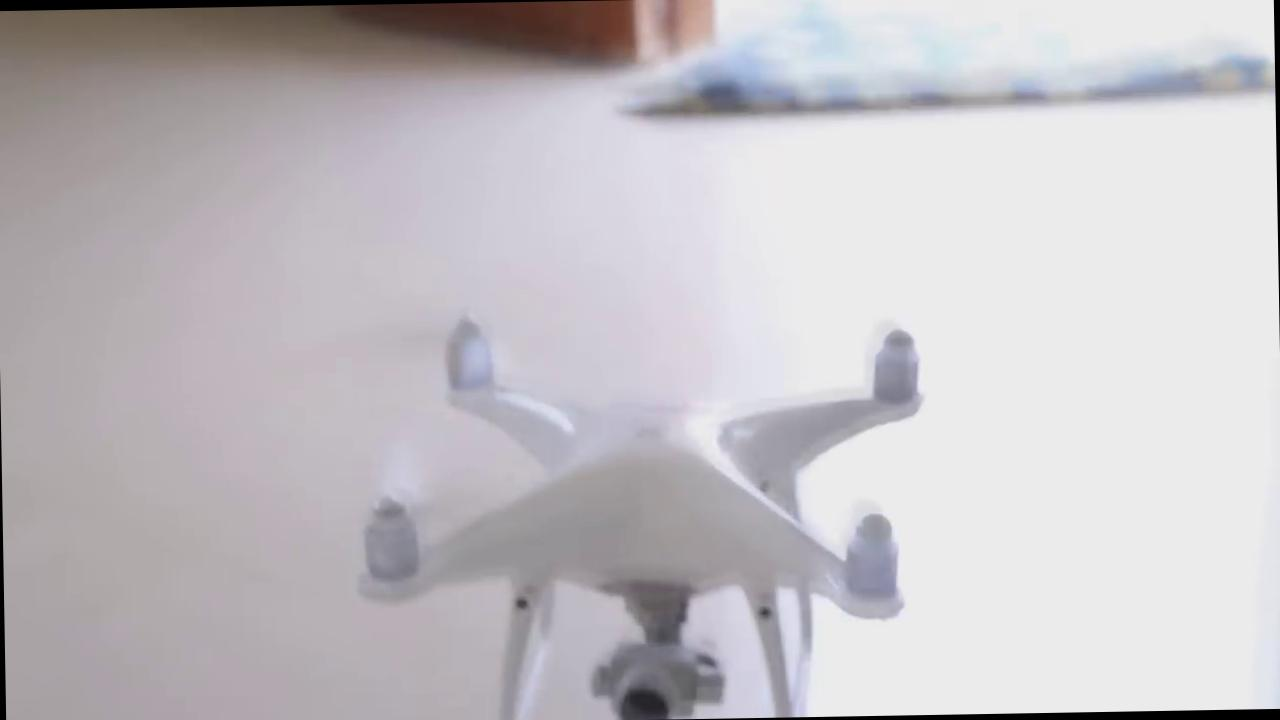drone: (308, 295, 989, 634)
